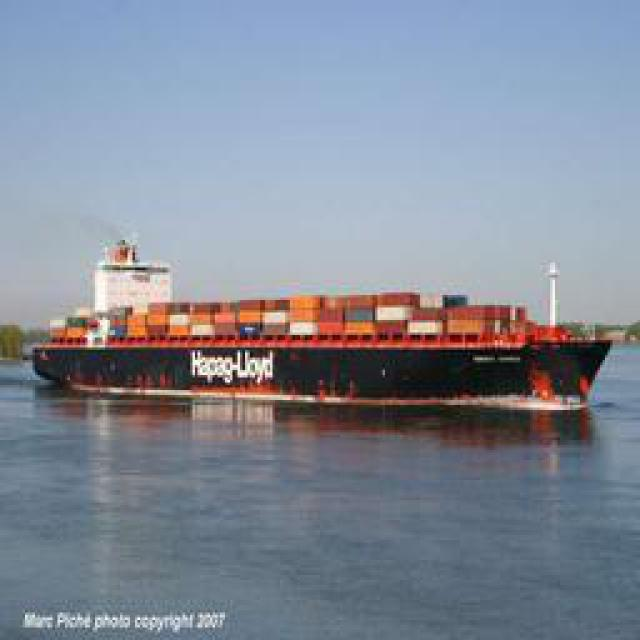Ship: (34, 249, 629, 409)
